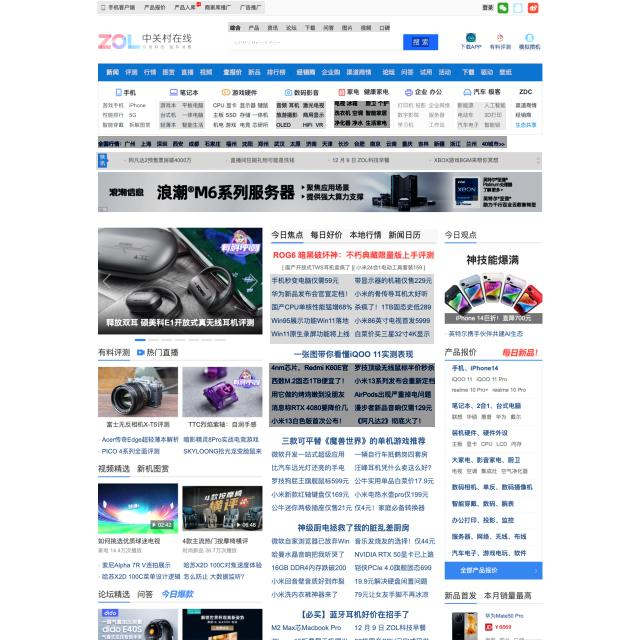CheckBox: (404, 34, 438, 50), (482, 4, 494, 11)
CheckedTextView: (230, 34, 439, 50)
ImageView: (98, 172, 542, 212)
Input field: (270, 274, 434, 344), (269, 363, 435, 427)
QR code: (96, 152, 542, 170)
carousel: (497, 2, 509, 14), (512, 2, 524, 14), (528, 2, 539, 14), (495, 33, 505, 43), (525, 33, 535, 43), (466, 33, 476, 42)
data feed: (412, 37, 429, 47), (519, 44, 541, 51), (460, 44, 482, 50), (490, 44, 512, 50)
date picker: (97, 27, 196, 56)
decoration: (98, 63, 542, 81), (98, 136, 507, 148), (97, 1, 265, 14), (212, 100, 270, 130), (228, 22, 390, 32), (334, 102, 390, 130), (397, 102, 453, 129), (101, 101, 151, 129), (276, 101, 326, 129), (457, 102, 506, 130), (159, 101, 205, 129)
footer: (235, 38, 281, 46)
icon: (270, 229, 438, 245)
